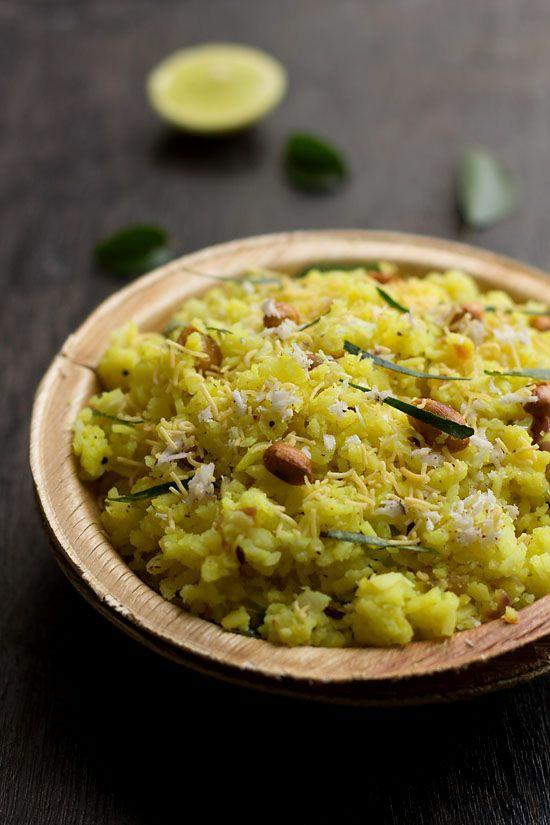Poha: (74, 260, 550, 646)
